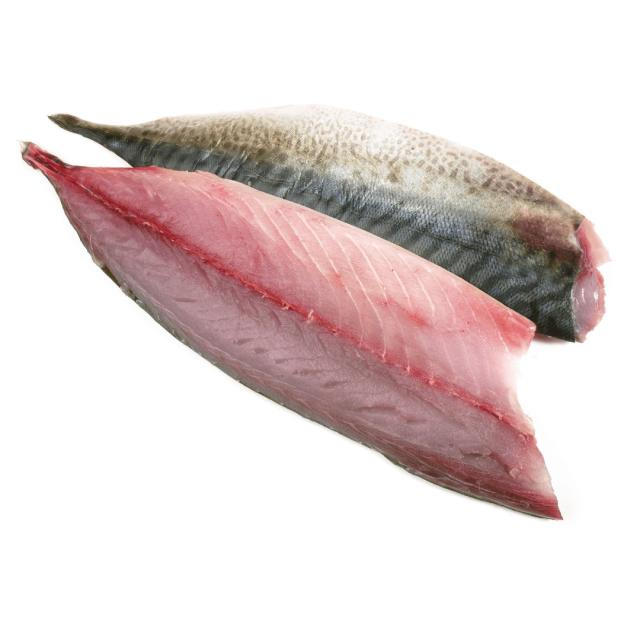Mackerel: (24, 144, 561, 519), (51, 105, 609, 341)
